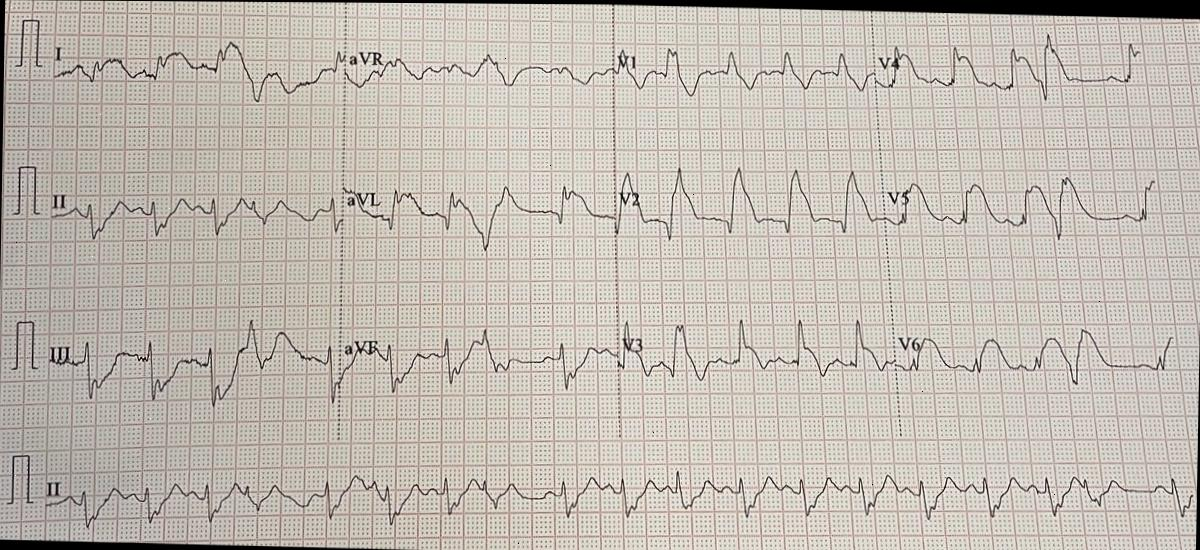Lead_I: (40, 168, 346, 255), (45, 34, 347, 109)
